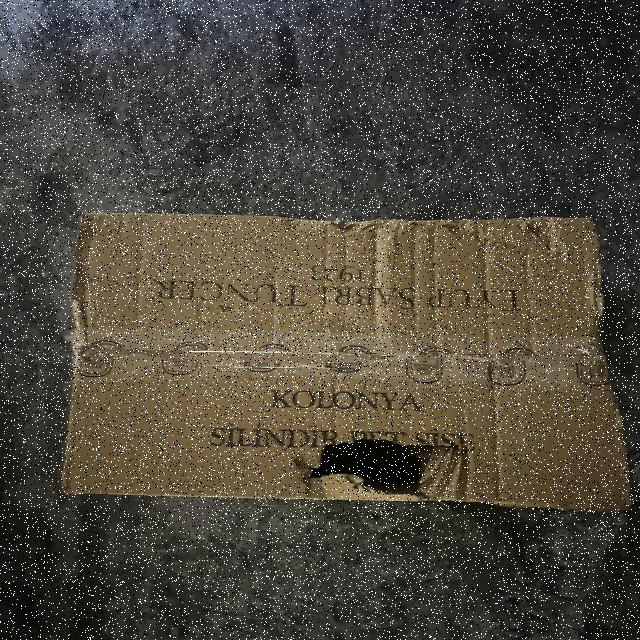damaged: (68, 203, 634, 512), (271, 195, 590, 272), (288, 429, 486, 509)
